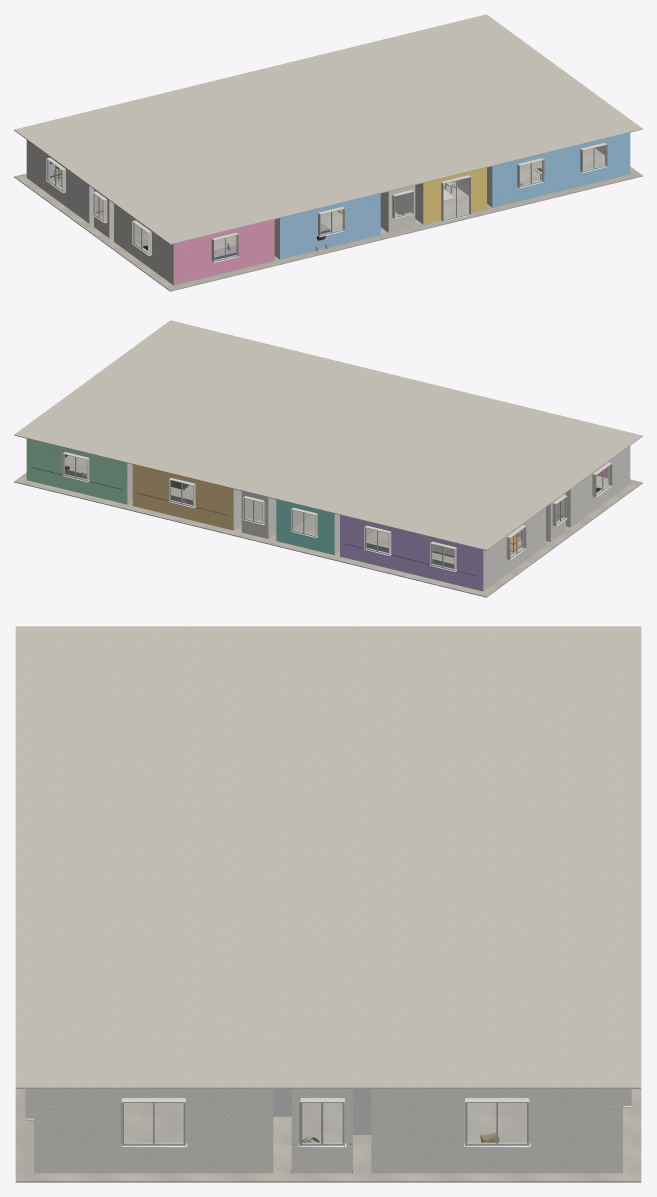
Rendered from hopital.glb.
3 views of the same model, one above another, from view 1: azimuth 30°, elevation 25°; view 2: azimuth 150°, elevation 25°; view 3: azimuth 270°, elevation 25° (orthographic). The views are drawn at different scales.
Visible parts, largest first — view 1: plafond, murs, sol, verre, chassis, menuiseries; view 2: plafond, murs, sol, verre, chassis, meubles, menuiseries; view 3: plafond, murs, sol, verre, chassis, cadres, menuiseries.
Boxes of the visible parts, box(x1,y1,x2,y2) form: plafond: box(14, 14, 642, 244); murs: box(26, 133, 630, 285); sol: box(14, 148, 642, 291); verre: box(48, 146, 605, 260); chassis: box(47, 145, 606, 261); menuiseries: box(46, 165, 607, 263); plafond: box(14, 320, 642, 550); murs: box(26, 439, 630, 591); sol: box(14, 455, 642, 597); verre: box(64, 455, 609, 569); chassis: box(63, 454, 610, 570); meubles: box(31, 467, 478, 576); menuiseries: box(62, 474, 612, 571); plafond: box(15, 626, 641, 1088); murs: box(25, 1089, 631, 1173); sol: box(15, 1089, 641, 1182); verre: box(124, 1103, 526, 1143); chassis: box(122, 1102, 528, 1145); cadres: box(273, 1089, 371, 1134); menuiseries: box(25, 1106, 631, 1147).
Bounding box in the file's own units: 31.15 × 3 × 17.85.
86 materials, 65 textured.
